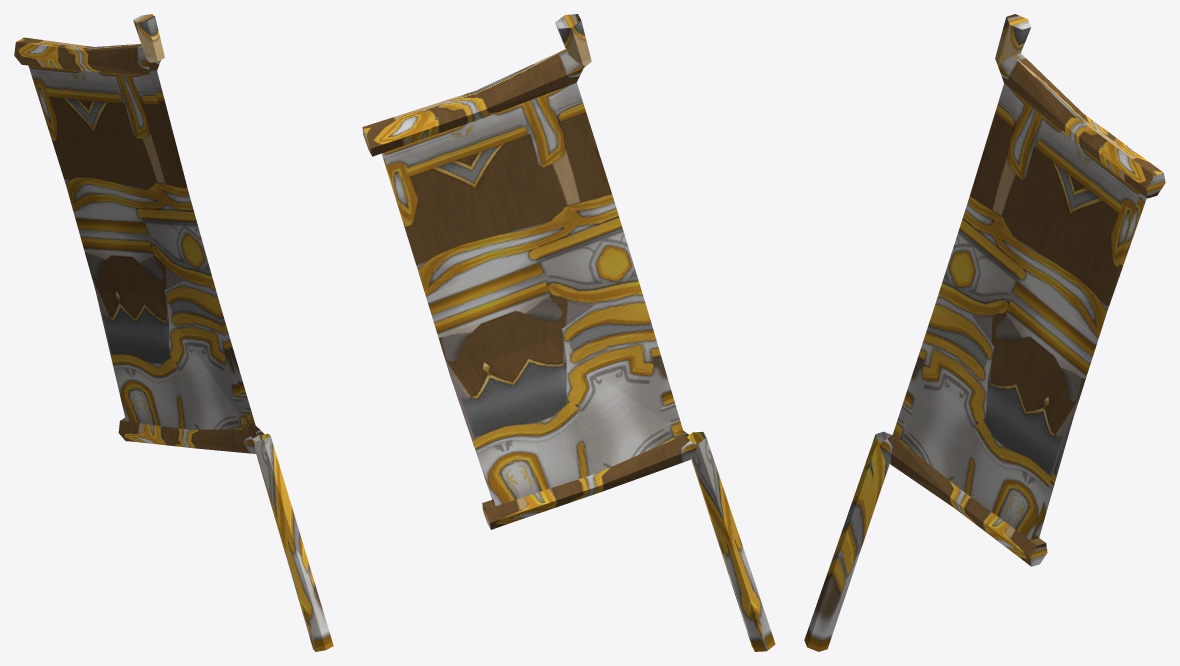
File: Cat_championFlag.obj
3 views of the same model, side by side, from view 1: azimuth 90°, elevation 25°; view 2: azimuth 150°, elevation 25°; view 3: azimuth 270°, elevation 25° (orthographic). The views are drawn at different scales.
Visible parts, largest first — view 1: Cat_championFlag_tri; view 2: Cat_championFlag_tri; view 3: Cat_championFlag_tri.
Part boxes in pixels (x1,y1,x2,y2): Cat_championFlag_tri: [14, 14, 333, 651]; Cat_championFlag_tri: [362, 14, 775, 651]; Cat_championFlag_tri: [804, 14, 1165, 651].
Bounding box in the file's own units: 0.4908 × 1.32 × 0.6393.
1 material, 1 textured.
